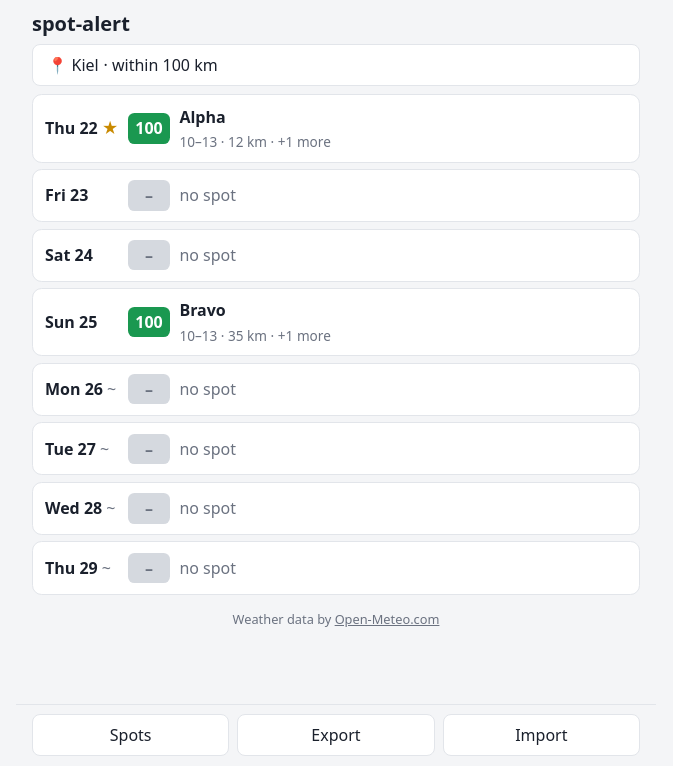
Scenario: App › drills into a day and a spot, and back out
Click the button "Thu 22★ 100 Alpha 10–13 · 12 km · +1 more": (71, 128) [32, 94, 640, 163]
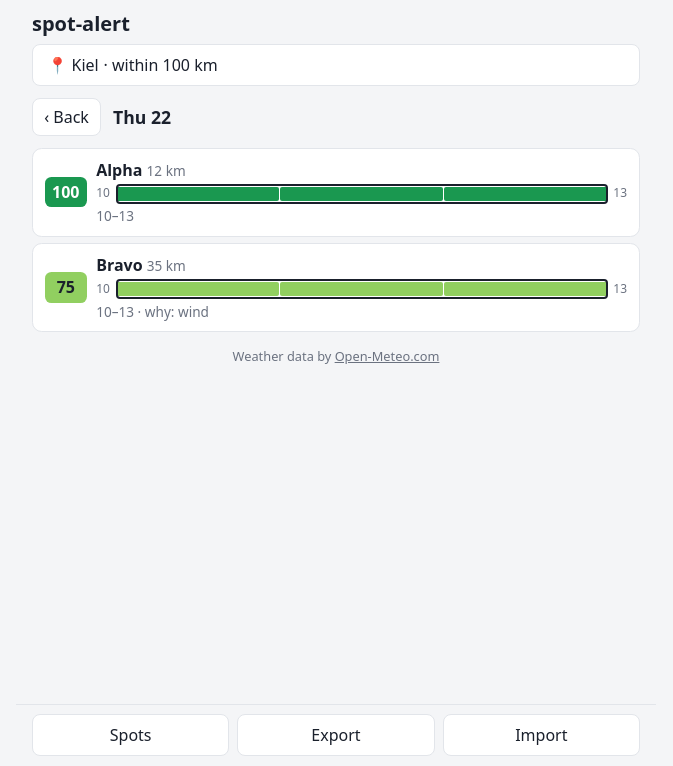
Expected: the heading "Thu 22" is shown, [113, 105, 171, 129]
Click the button "100 Alpha 12 km 10 13 10–13": (336, 192) [32, 148, 640, 236]
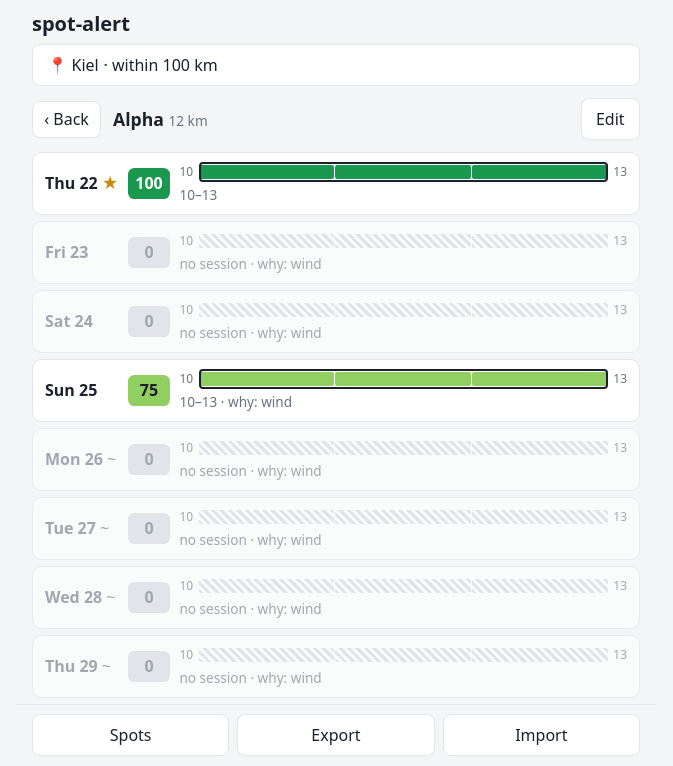
Result: the heading "Alpha 12 km" is shown at [113, 107, 208, 131]
Result: the number of list items is 8
Click the button "‹ Back": (67, 119) [32, 101, 101, 138]
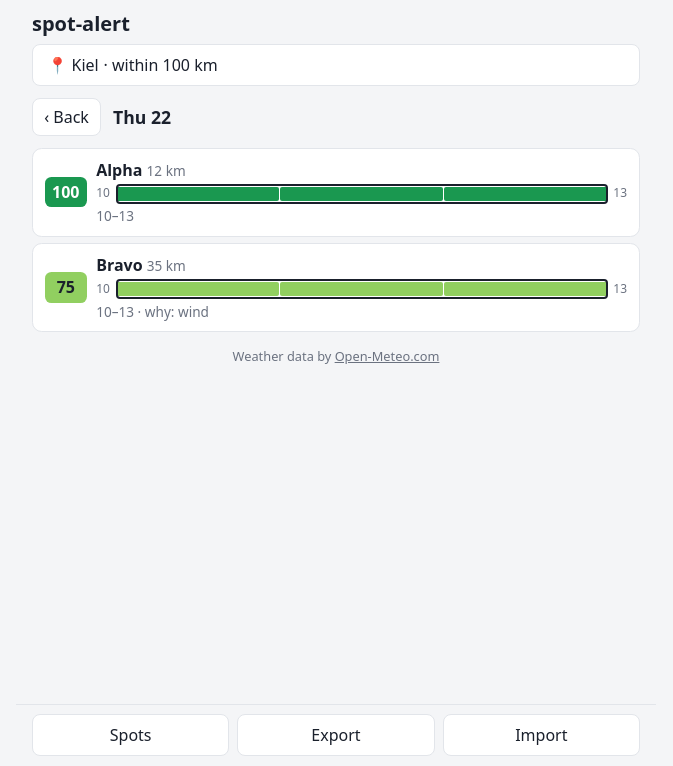
Result: the heading "Thu 22" is shown at [113, 105, 171, 129]
Click the button "‹ Back": (67, 117) [32, 98, 101, 136]
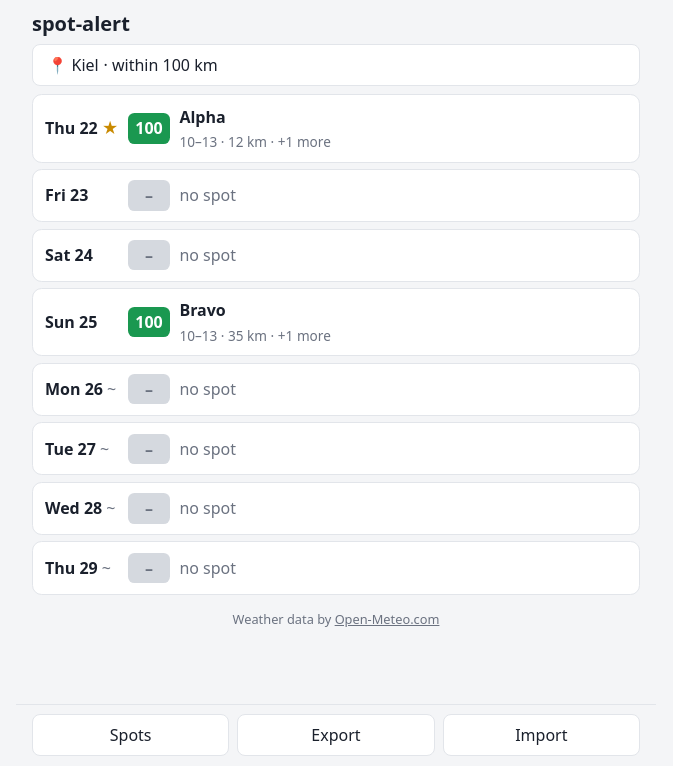
Result: the button "Fri 23 – no spot" is shown at [32, 169, 640, 222]
